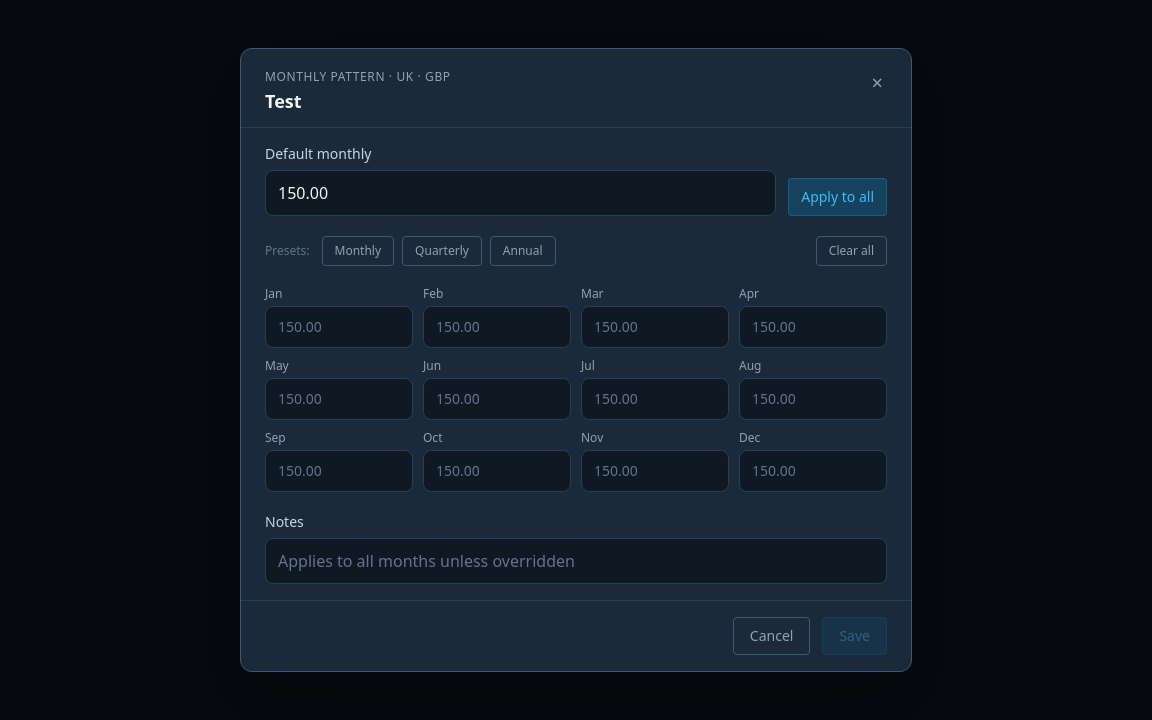
Test case: BudgetPatternModal › shows error when default amount is empty on save
Note: Clear the default amount
Clear the number field named "default monthly amount" at (521, 193), box [265,170,776,216]
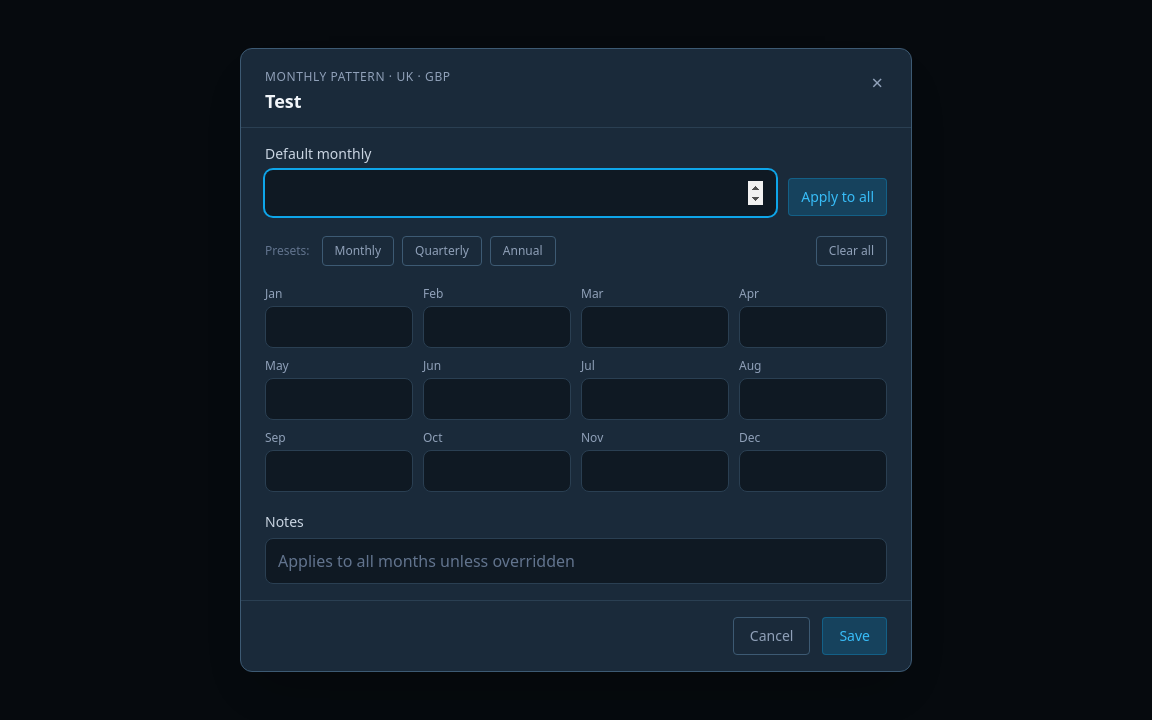
Click the button "Save".
click(855, 636)  # box [822,617,887,655]
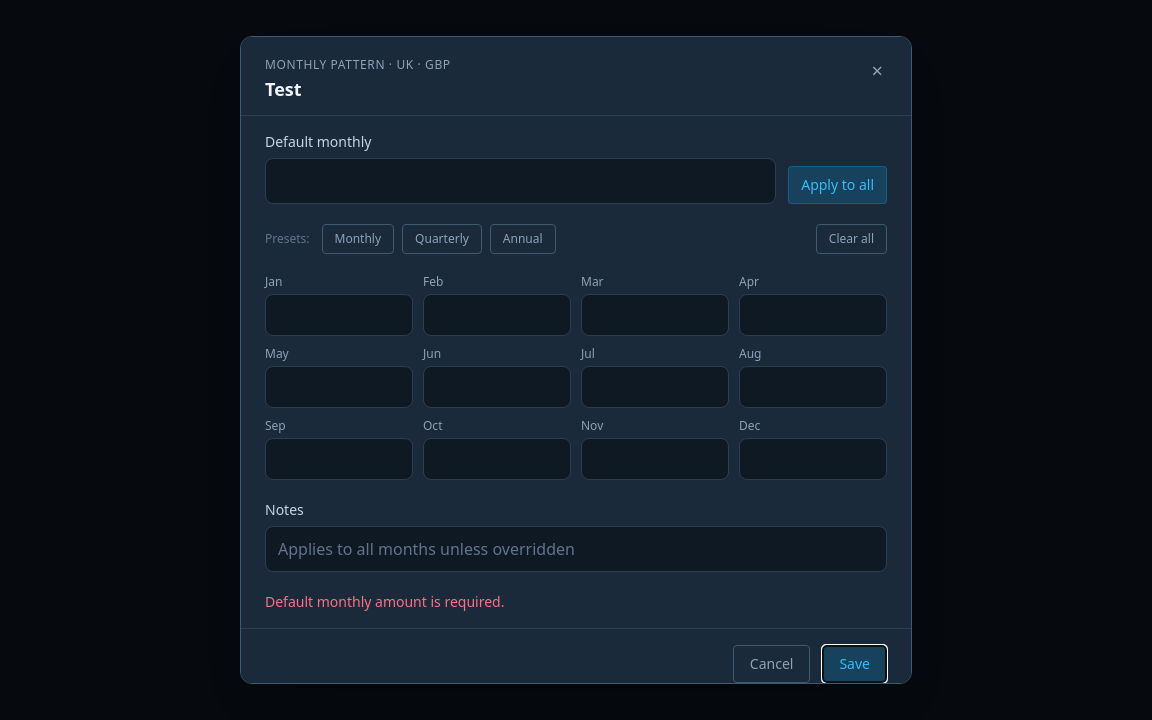
Expected: the text "Default monthly amount is required." is shown, [265,592,504,611]
